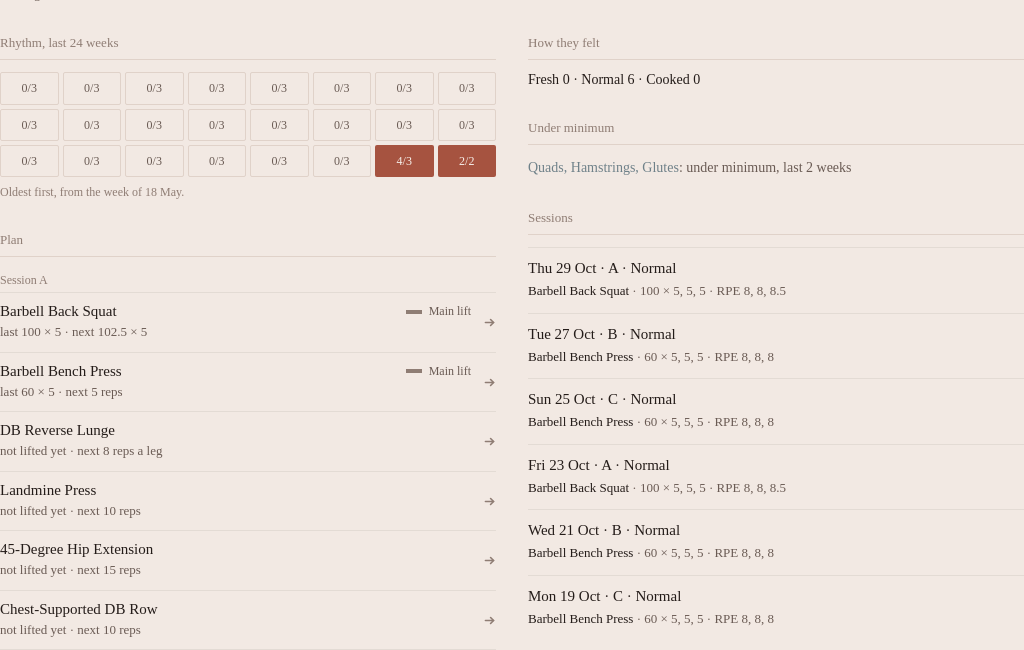
Test: TrainerClientView: the plan › a bodyweight lift changes reps only; a timed hold changes seconds
Click the button "45-Degree Hip Extension not lifted yet · next 15 reps" at (77, 549), box top-left (0, 530), bottom-right (496, 590)
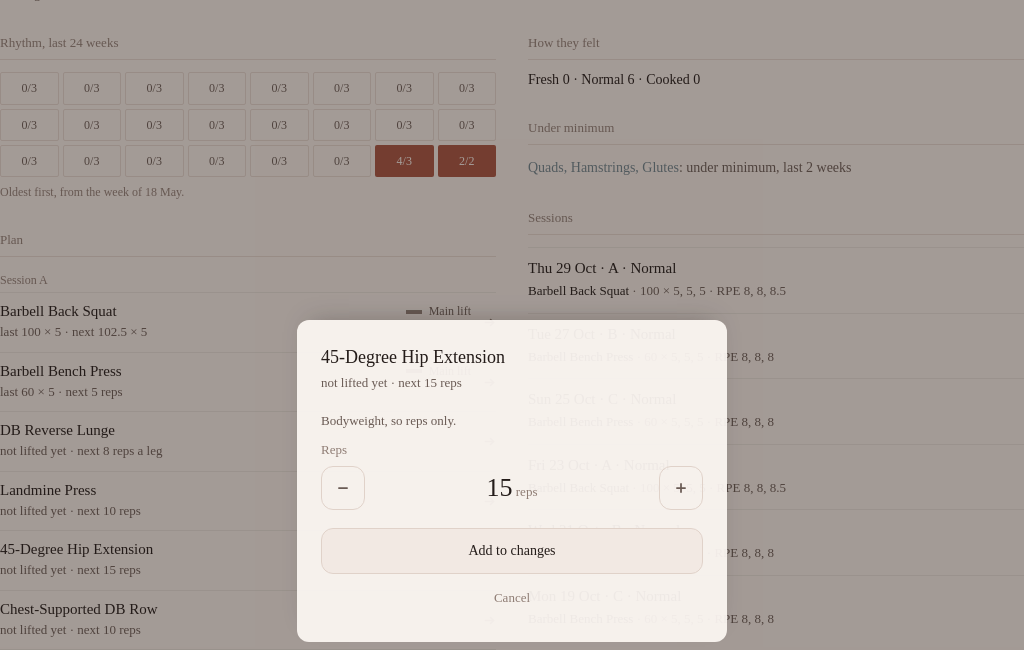
Now the dialog shows "Bodyweight, so reps only.", box top-left (321, 412), bottom-right (456, 428)
Now the element "reps" shows "15", box top-left (486, 473), bottom-right (512, 502)
Click the button "Cancel" at (512, 598), box top-left (321, 578), bottom-right (703, 618)
(page scrolled)
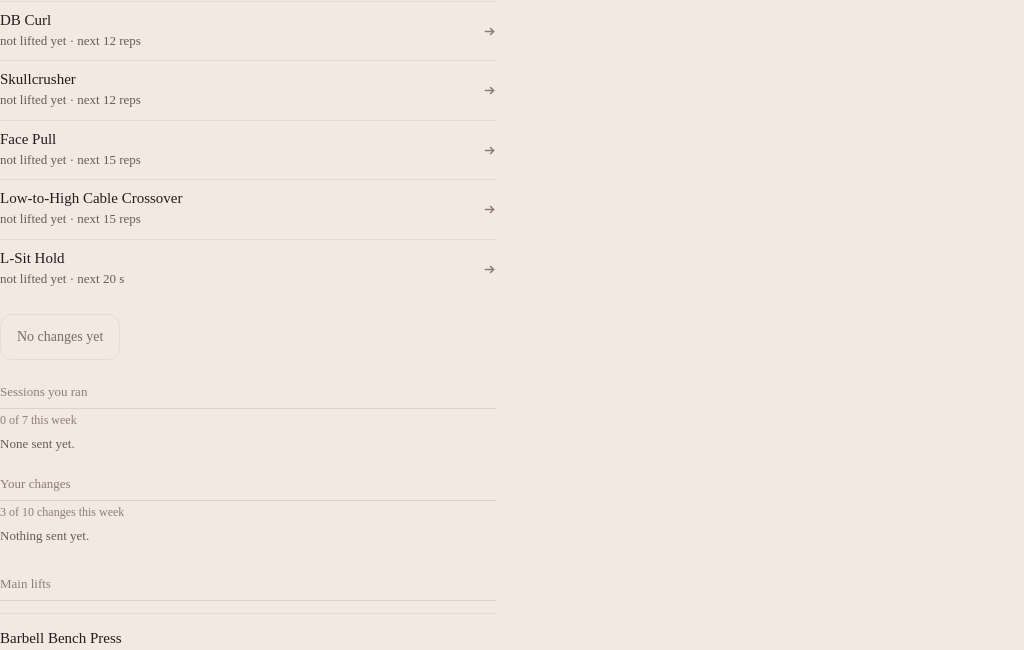
Click the button "L-Sit Hold not lifted yet · next 20 s" at (32, 258), box top-left (0, 239), bottom-right (496, 298)
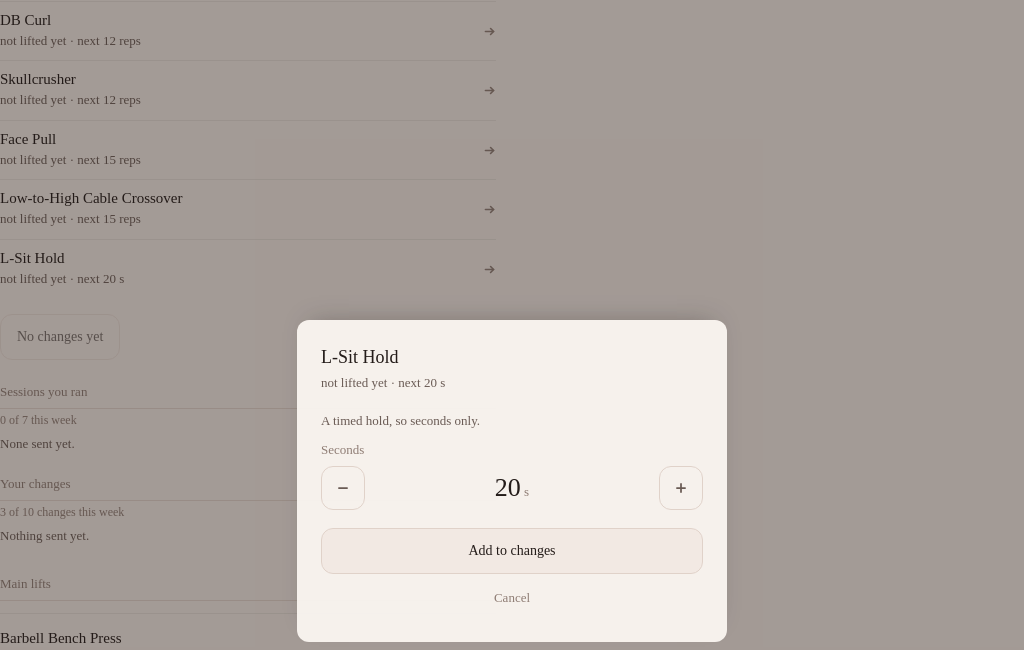
Now the dialog shows "A timed hold, so seconds only.", box top-left (321, 412), bottom-right (480, 428)
Now the element named "Seconds" shows "20", box top-left (495, 473), bottom-right (521, 502)
Click the button named "More seconds" at (681, 488), box top-left (659, 466), bottom-right (703, 510)
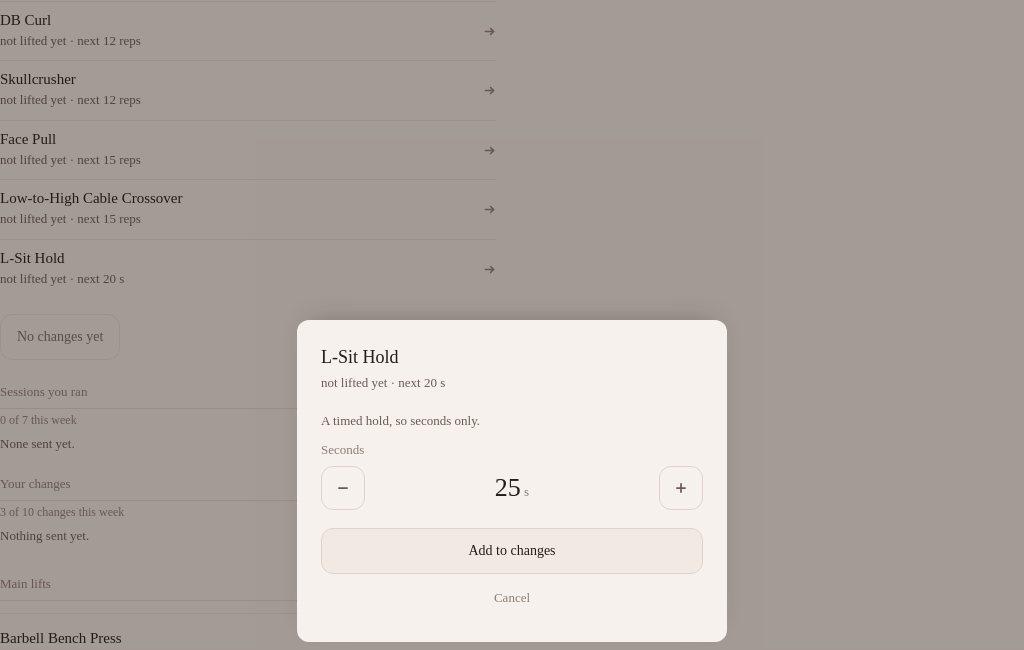
Now the element named "Seconds" shows "25", box top-left (495, 473), bottom-right (521, 502)
